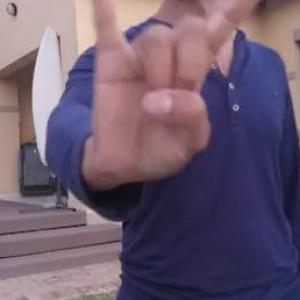takeoff-hand: (86, 0, 287, 193)
